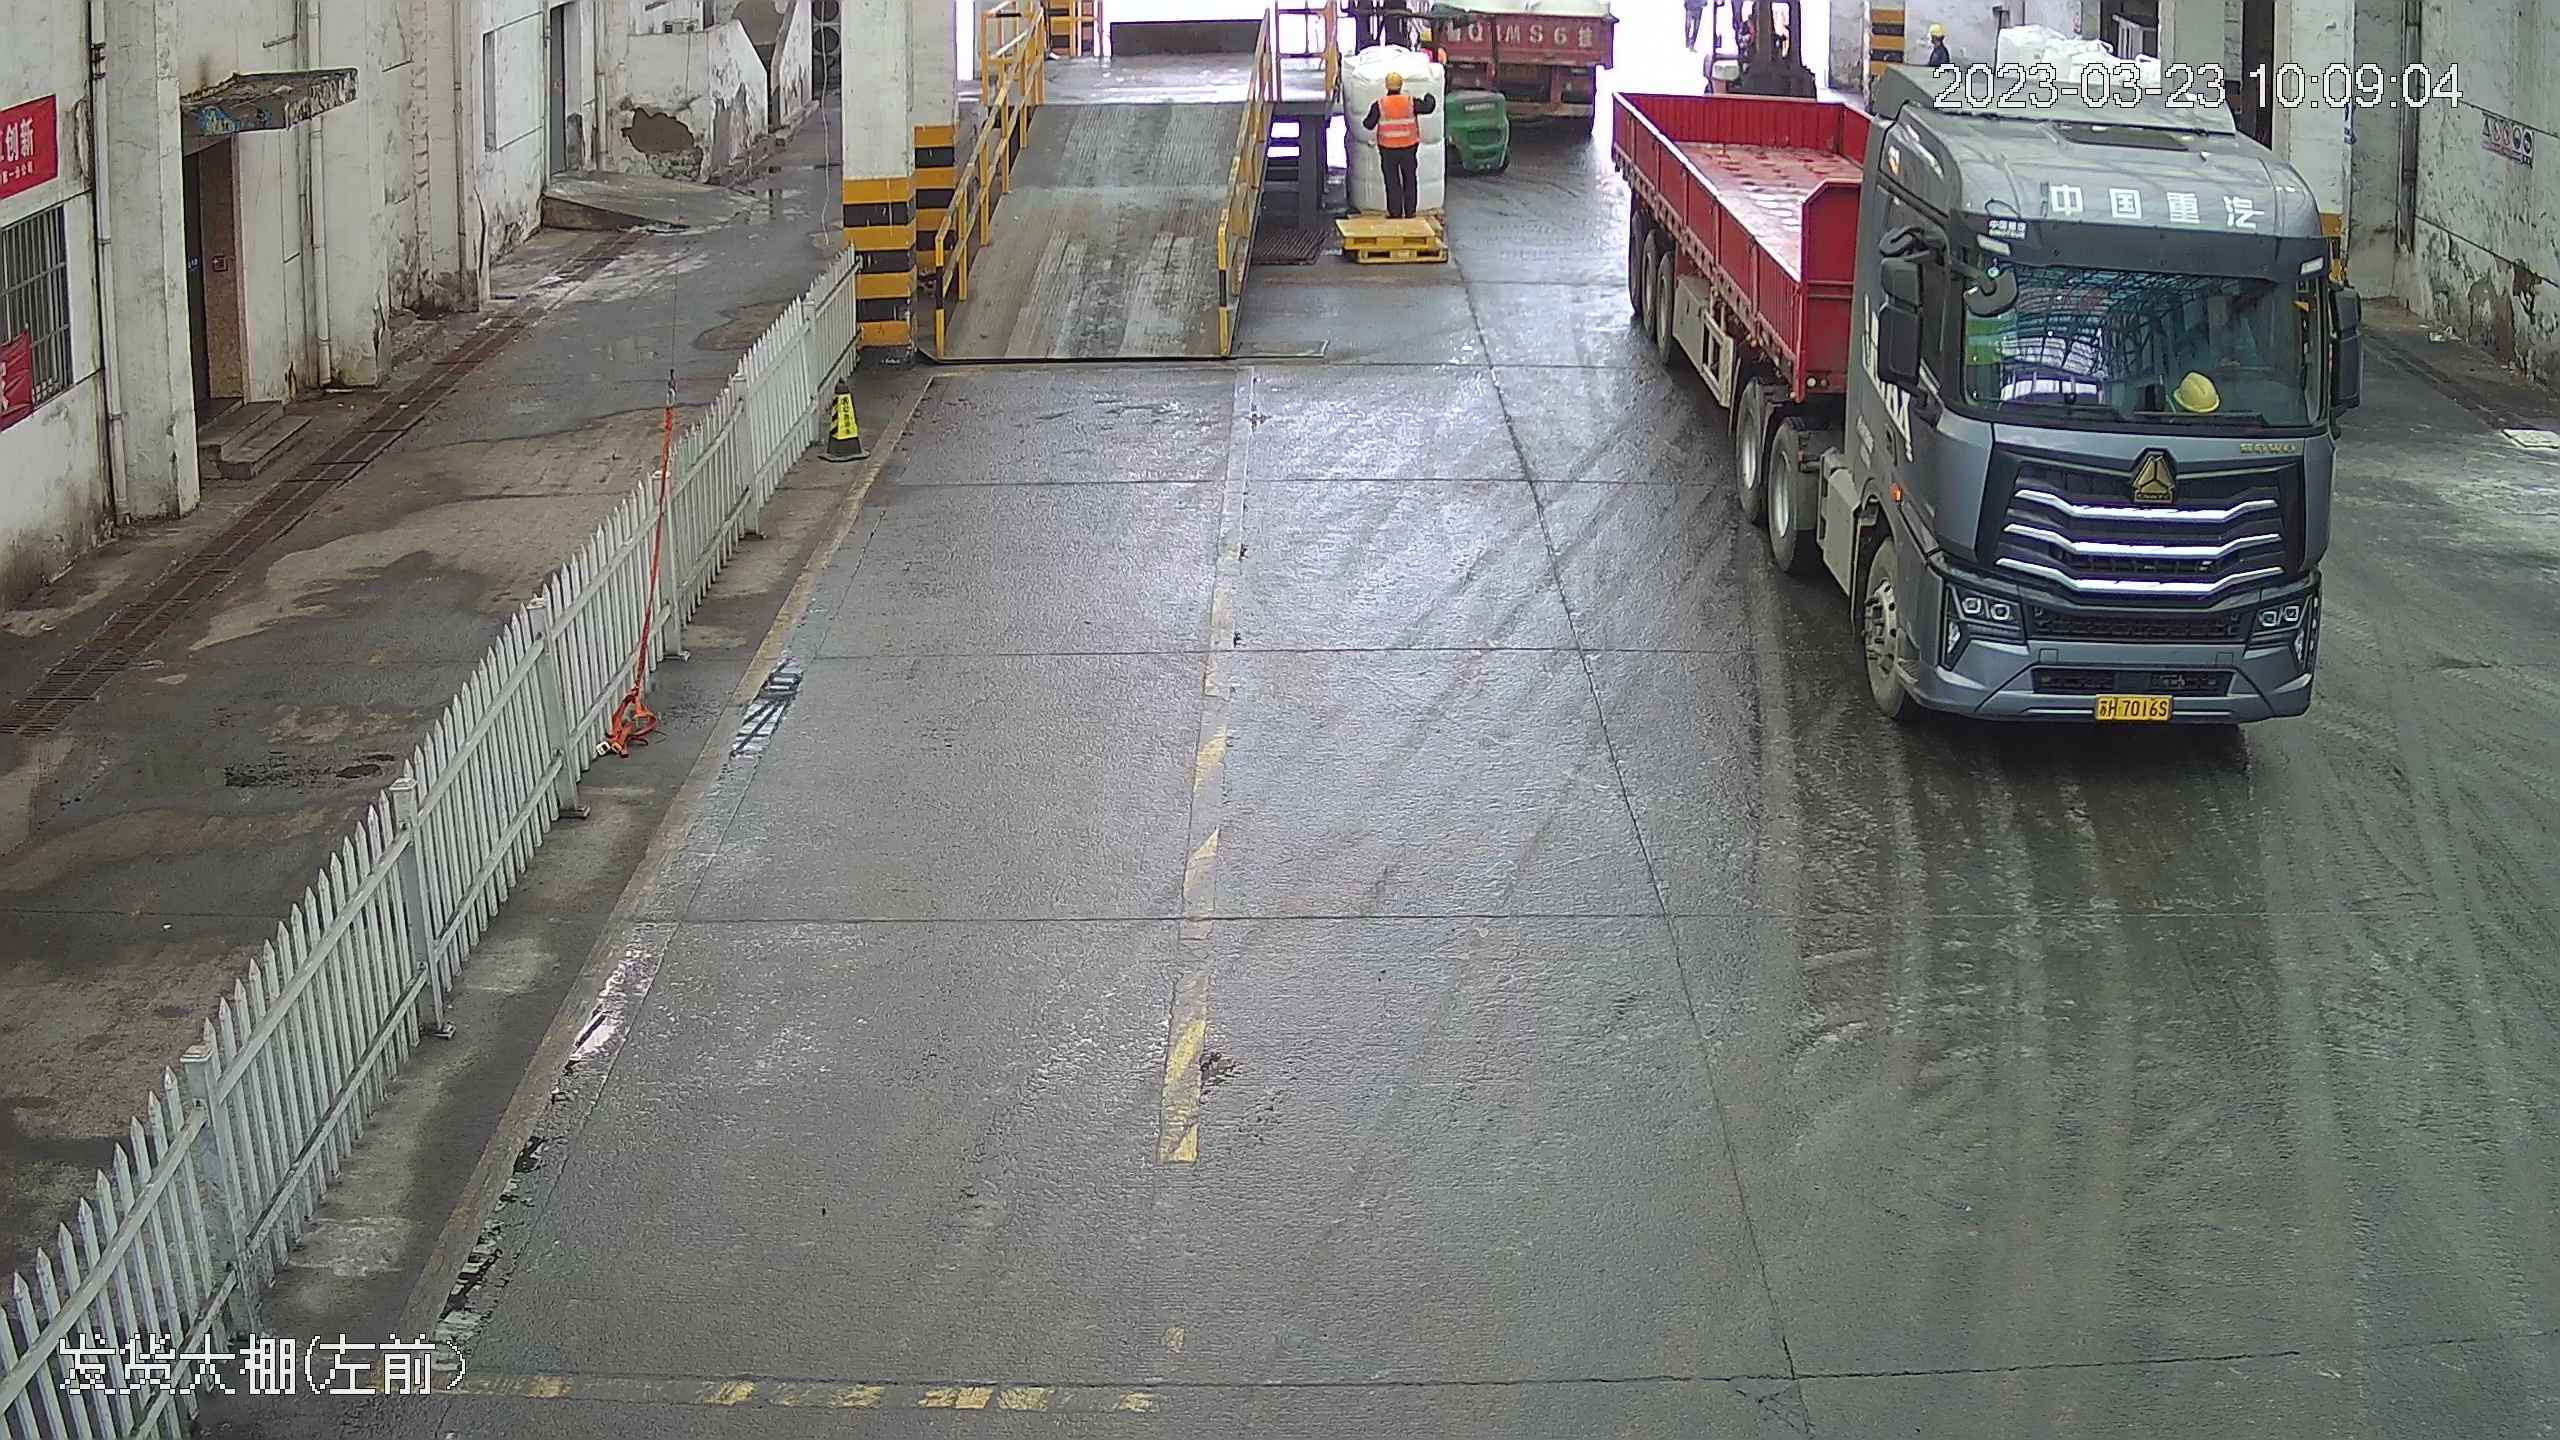head: (1377, 67, 1418, 114)
helmet: (1383, 68, 1403, 92)
people: (1369, 62, 1426, 221)
truck: (1615, 25, 2364, 748), (1439, 1, 1607, 119)
